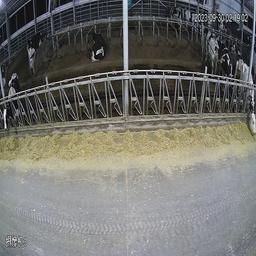cow: (241, 56, 256, 137), (4, 70, 20, 130), (203, 27, 220, 75), (27, 29, 48, 62), (90, 33, 107, 64), (222, 45, 233, 88), (187, 6, 199, 35), (170, 5, 183, 27)
